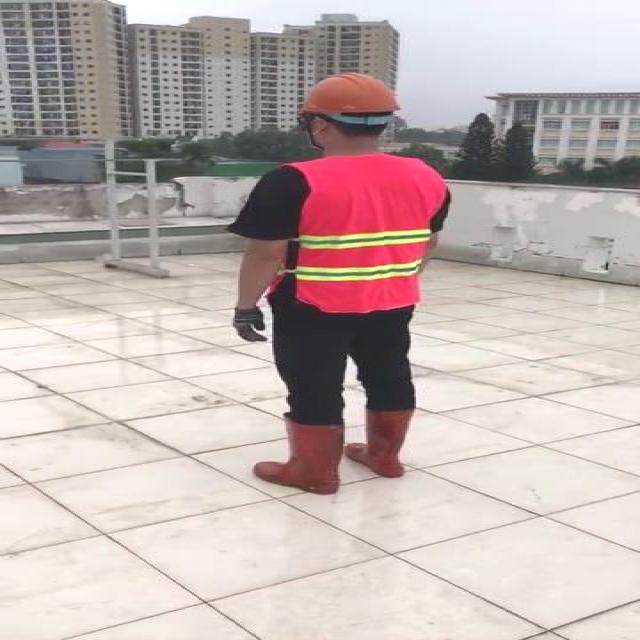boots: (251, 416, 343, 494), (345, 408, 427, 480)
hand_glove: (229, 304, 267, 345)
head_helmet: (303, 72, 408, 112)
person: (219, 66, 455, 498)
vest: (272, 155, 448, 314)
